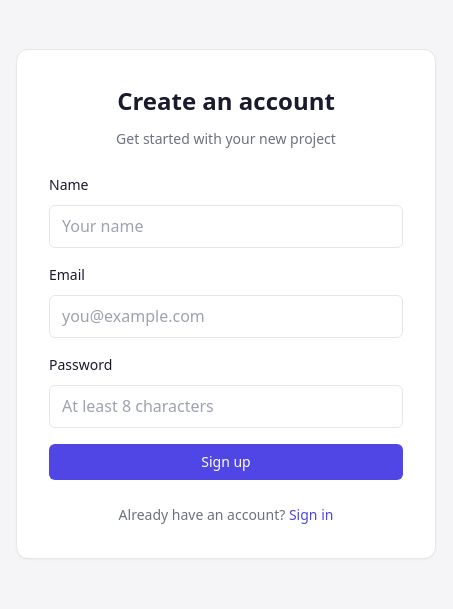
Test: SignUp › shows error on server rejection
In the field labelled "Name": (226, 227) [49,205,403,248], type "Test"
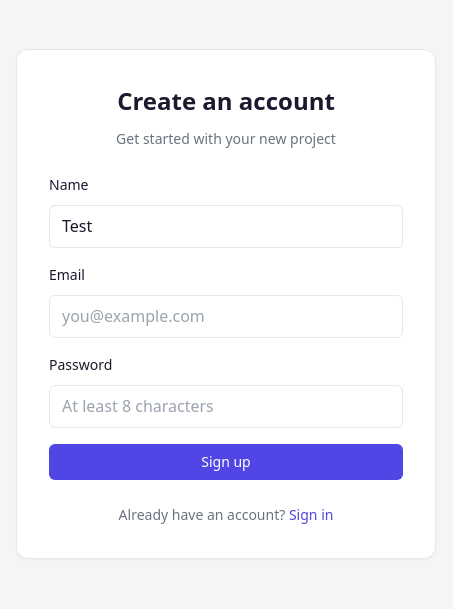
In the field labelled "Email": (226, 317) [49,295,403,338], type "taken@b.com"
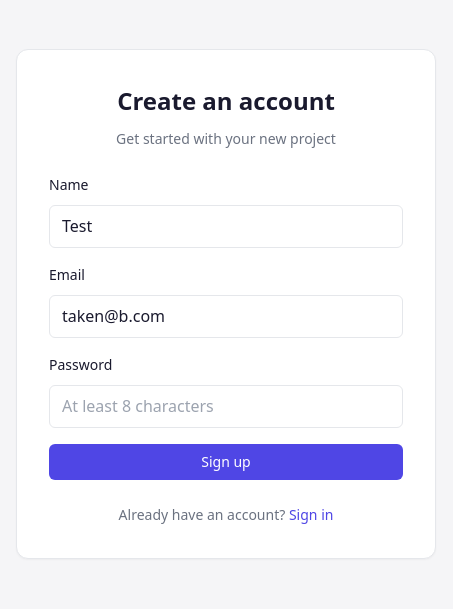
In the password field labelled "Password": (226, 407) [49,385,403,428], type "password123"
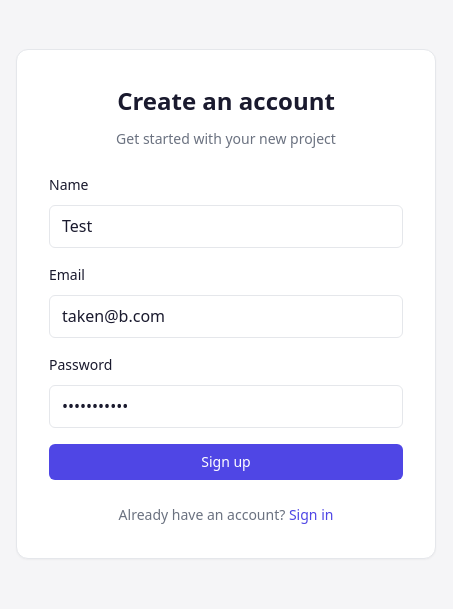
Click the button "Sign up": (226, 462) [49,444,403,480]
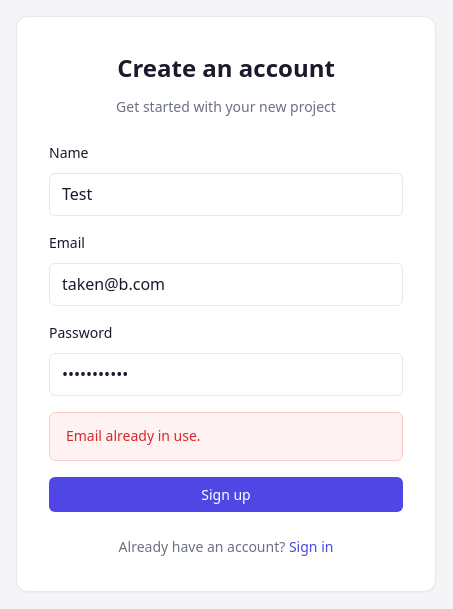
Now the message reads "Email already in use.", box [66,426,201,445]
